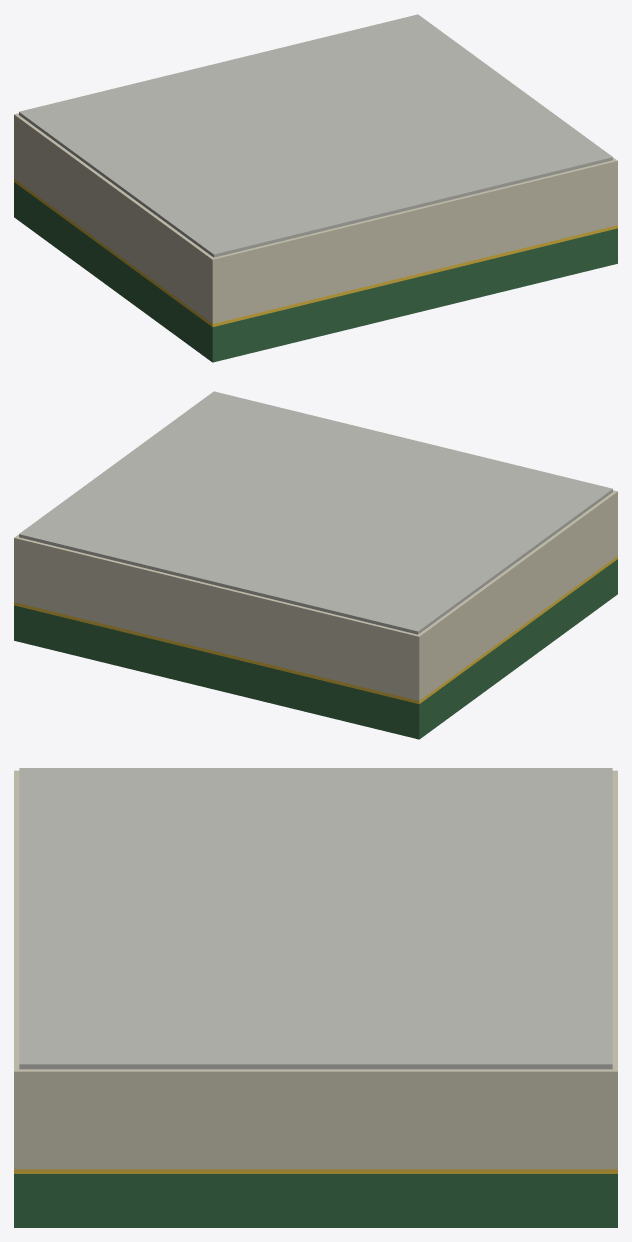
Rendered from lab_cit.obj.
3 renders of one model, top to bottom at view 1: azimuth 30°, elevation 25°; view 2: azimuth 150°, elevation 25°; view 3: azimuth 270°, elevation 25°, orthographic. The views are drawn at different scales.
Visible parts, largest first — view 1: techo, pared, pared_baja, pared_franja_franja; view 2: techo, pared, pared_baja, pared_franja_franja; view 3: techo, pared, pared_baja, pared_franja_franja.
Part boxes in pixels (box(x1,y1,x2,y2)): techo: box(19, 14, 612, 257); pared: box(14, 113, 617, 323); pared_baja: box(14, 182, 617, 362); pared_franja_franja: box(14, 179, 617, 327); techo: box(19, 391, 612, 634); pared: box(14, 490, 617, 700); pared_baja: box(14, 559, 617, 739); pared_franja_franja: box(14, 556, 617, 704); techo: box(19, 768, 612, 1069); pared: box(14, 770, 617, 1169); pared_baja: box(14, 1174, 617, 1227); pared_franja_franja: box(14, 1169, 617, 1173).
Size of the model in its own units: 13.2 by 3.4 by 11.2.
